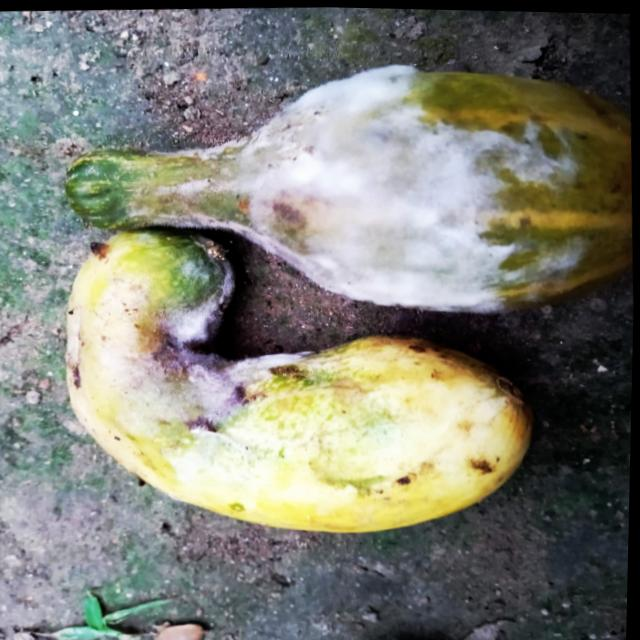Pythium-Fruit-Rot: (121, 48, 600, 338), (92, 239, 329, 493)
